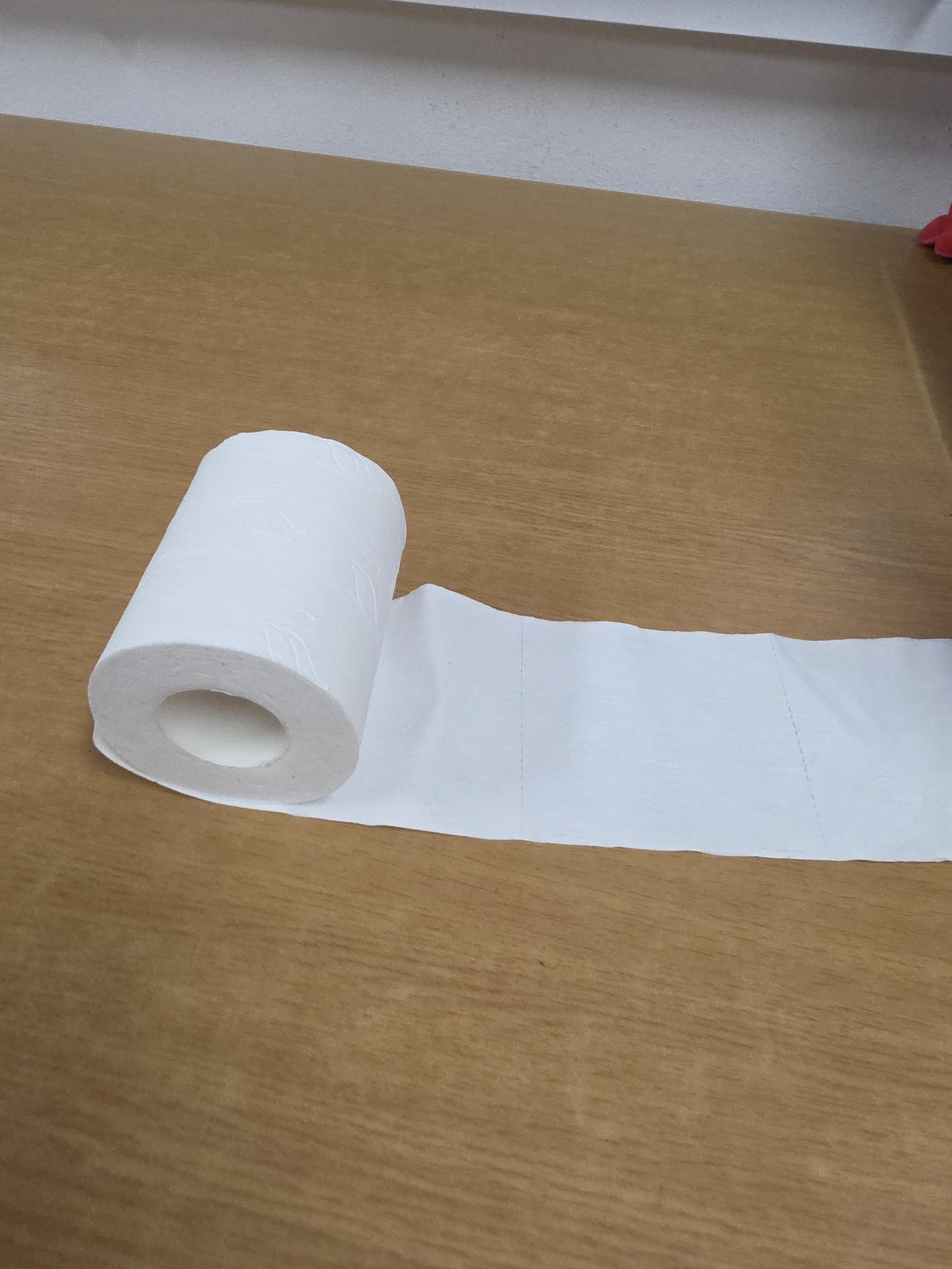tissue: (87, 430, 951, 863)
